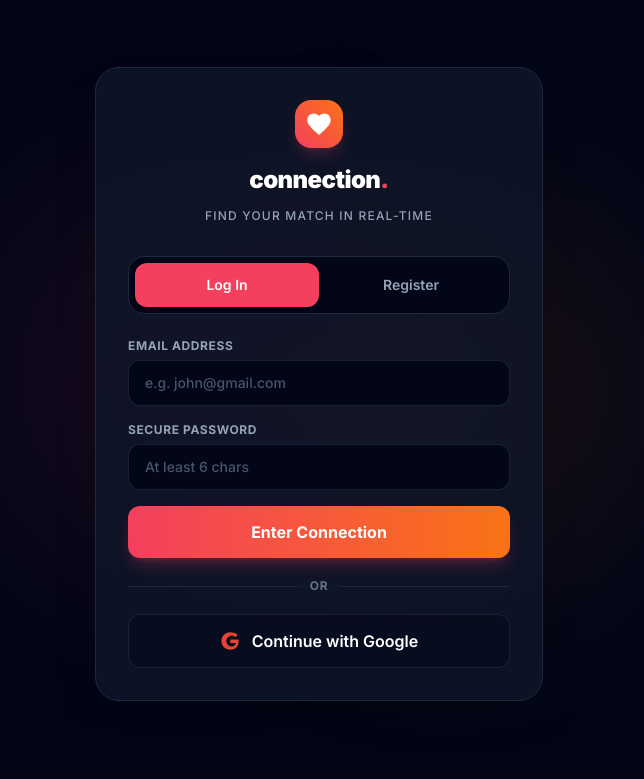
AuthPage Component Unit & Interactive Tests › should toggle to Register form when clicking the Register tab
Click on Register Tab
Click the button "Register": (411, 285) top-left (319, 263), bottom-right (503, 307)
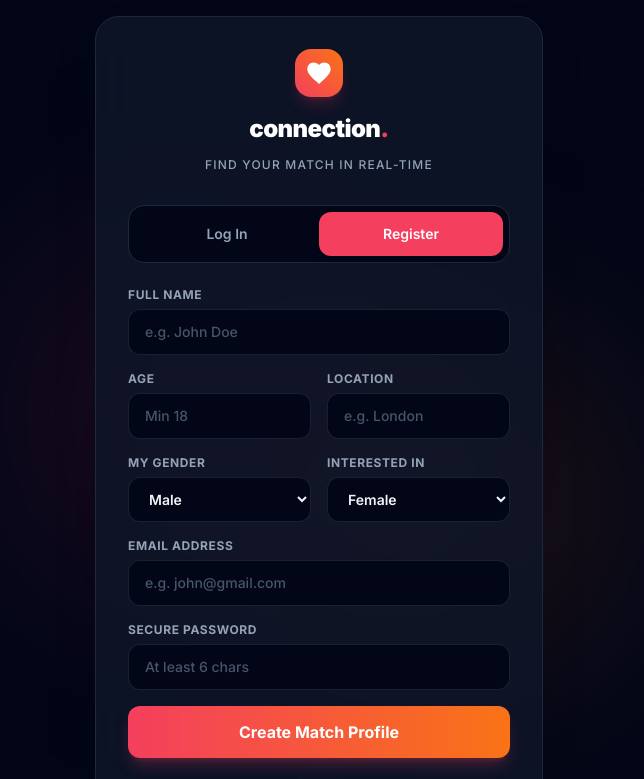
Now the field with placeholder "e.g. John Doe" is shown, box top-left (128, 309), bottom-right (510, 355)
Now the number field with placeholder "Min 18" is shown, box top-left (128, 393), bottom-right (311, 439)
Now the field with placeholder "e.g. London" is shown, box top-left (327, 393), bottom-right (510, 439)
